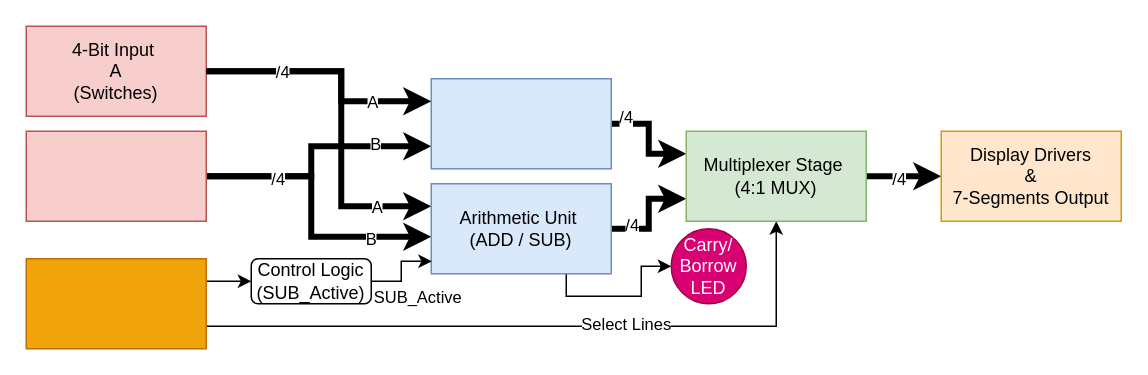
The diagram is 1148 pixels wide and 375 high, and some of its shapes have lost their labels. Each missing label, with the box of its shape:
4-Bit Input B (Switches): (25, 130, 206, 221)
Logic Unit (AND / OR): (430, 77, 611, 169)
Opcode Selection (S1, S0): (25, 257, 206, 349)
